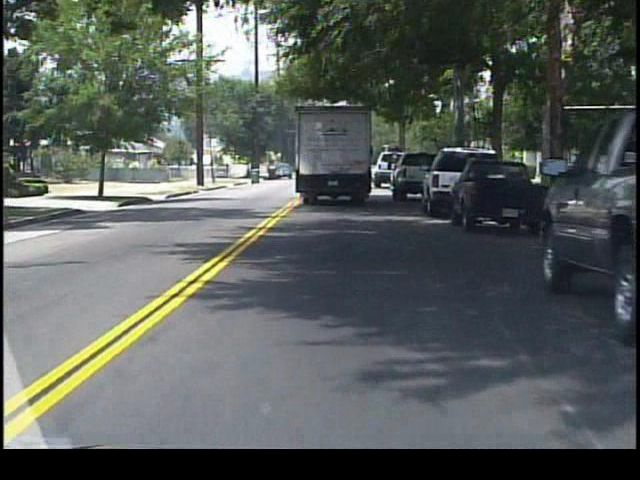person: (225, 163, 230, 180)
